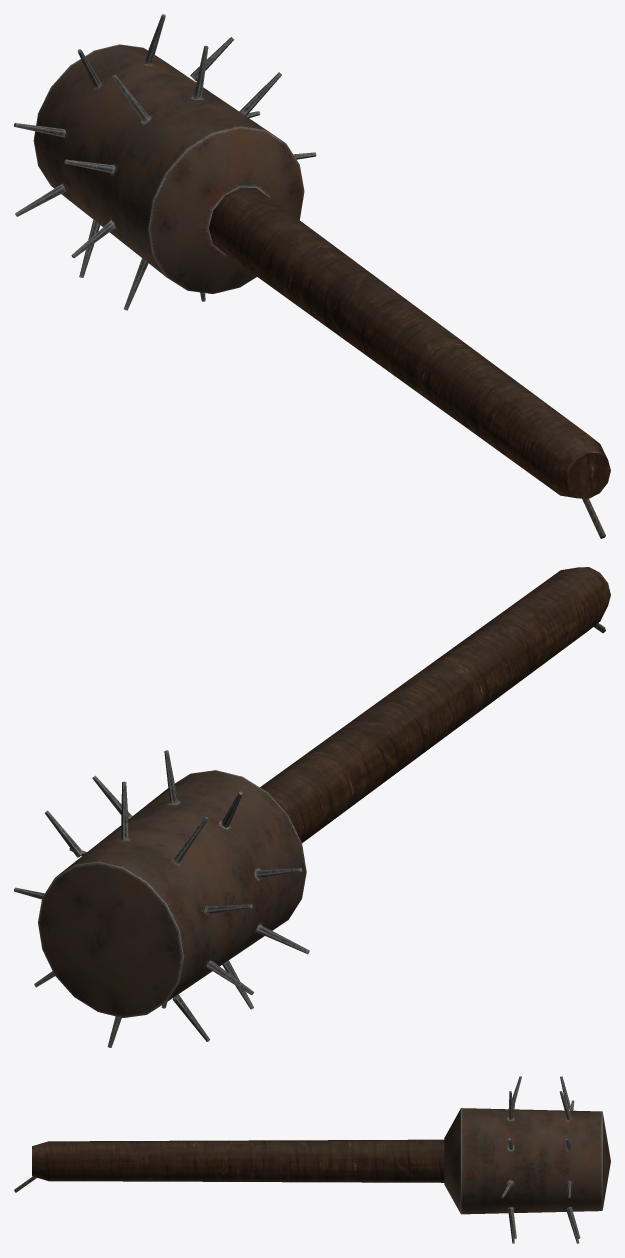
File: tusker_nail_grenade.glb
3 renders of one model, top to bottom at view 1: azimuth 30°, elevation 25°; view 2: azimuth 150°, elevation 25°; view 3: azimuth 270°, elevation 25°, orthographic. The views are drawn at different scales.
Parts seen in each view (by area): view 1: tusker_nail_grenade; view 2: tusker_nail_grenade; view 3: tusker_nail_grenade.
Boxes of the visible parts, x1,y1,x2,y2 form: tusker_nail_grenade: [14, 14, 610, 538]; tusker_nail_grenade: [14, 567, 610, 1047]; tusker_nail_grenade: [14, 1076, 610, 1243].
Bounding box in the file's own units: 0.0994 × 0.1009 × 0.3582.
Materials: 1 (1 with a texture image).
